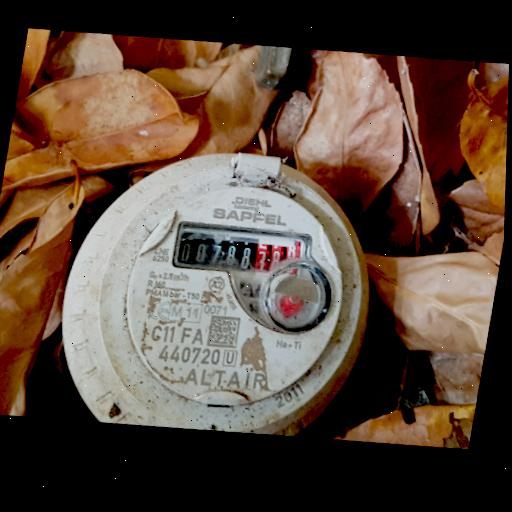0: (192, 236, 211, 267), (177, 237, 194, 265)
3: (253, 242, 271, 274)
7: (207, 236, 226, 269)
8: (282, 238, 302, 267), (222, 239, 240, 270), (236, 241, 254, 272), (266, 245, 283, 274)
border_water_meter_number: (172, 215, 324, 288)
